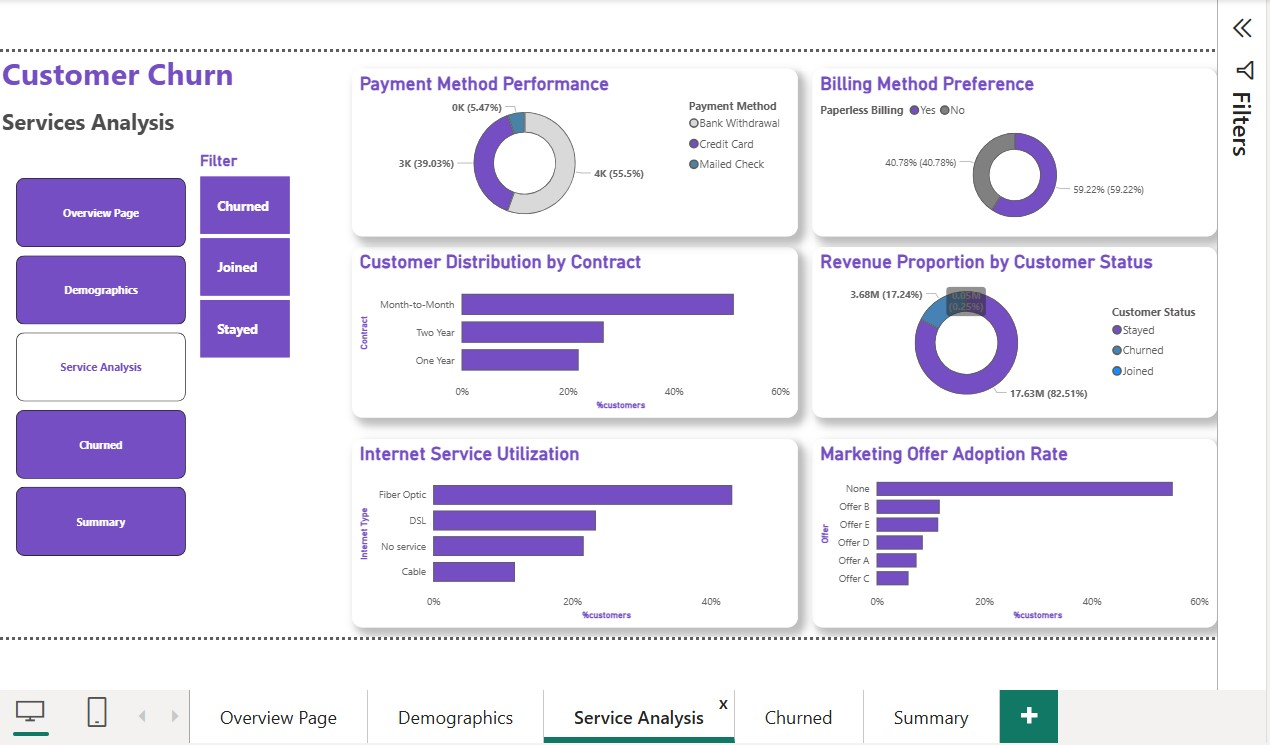

This screenshot's page, from the dashboard's own definition file:
{"tool":"powerbi","page":{"name":"Service Analysis","canvas":[1500,720],"ordinal":2},"visuals":[{"type":"barChart","title":"Marketing Offer Adoption Rate","fields":{"Category":["telecom_customer_churn.Offer"],"Y":["Measure_Table.%Customers by Contract"]},"box":[1002.1,475.6,497.9,232.2],"z":0},{"type":"clusteredBarChart","title":"Customer Distribution by Contract","fields":{"Category":["telecom_customer_churn.Contract"],"Y":["Measure_Table.% customer changed"]},"box":[435.8,240.2,548.8,210],"z":1000},{"type":"donutChart","title":"Payment Method Performance","fields":{"Category":["telecom_customer_churn.Payment Method"],"Y":["Measure_Table.#customer"]},"box":[435.8,20.7,548.8,206.8],"z":2000},{"type":"textbox","box":[0,0,372.2,128.8],"z":3000},{"type":"donutChart","title":"Billing Method Preference","fields":{"Category":["telecom_customer_churn.Paperless Billing"],"Y":["Measure_Table.% customer changed"]},"box":[1002.1,20.7,497.9,206.8],"z":4000},{"type":"donutChart","title":"Revenue Proportion by Customer Status","fields":{"Category":["telecom_customer_churn.Customer Status"],"Y":["Sum(telecom_customer_churn.Total Revenue)"]},"box":[1002.1,240.2,497.9,210],"z":5000},{"type":"barChart","title":"Internet Service Utilization","fields":{"Category":["telecom_customer_churn.Internet Type"],"Y":["Measure_Table.%Customers by Contract"]},"box":[435.8,475.6,548.8,232.2],"z":7000},{"type":"advancedSlicerVisual","title":"Filter","fields":{"Values":["telecom_customer_churn.Customer Status"]},"box":[244,122,120,259],"z":8000},{"type":"pageNavigator","box":[22,155,209,466],"z":9000}]}

Visuals, with their boxes on the page's 1500x720 design canvas (x1, y1, x2, y2). These are canvas units, not pixel positions in the 1270x745 screenshot, which may show the page scaled, cropped or inside an application window:
"Marketing Offer Adoption Rate" barChart: <box>1002,476,1500,708</box>
"Customer Distribution by Contract" clusteredBarChart: <box>436,240,985,450</box>
"Payment Method Performance" donutChart: <box>436,21,985,228</box>
textbox: <box>0,0,372,129</box>
"Billing Method Preference" donutChart: <box>1002,21,1500,228</box>
"Revenue Proportion by Customer Status" donutChart: <box>1002,240,1500,450</box>
"Internet Service Utilization" barChart: <box>436,476,985,708</box>
"Filter" advancedSlicerVisual: <box>244,122,364,381</box>
pageNavigator: <box>22,155,231,621</box>
